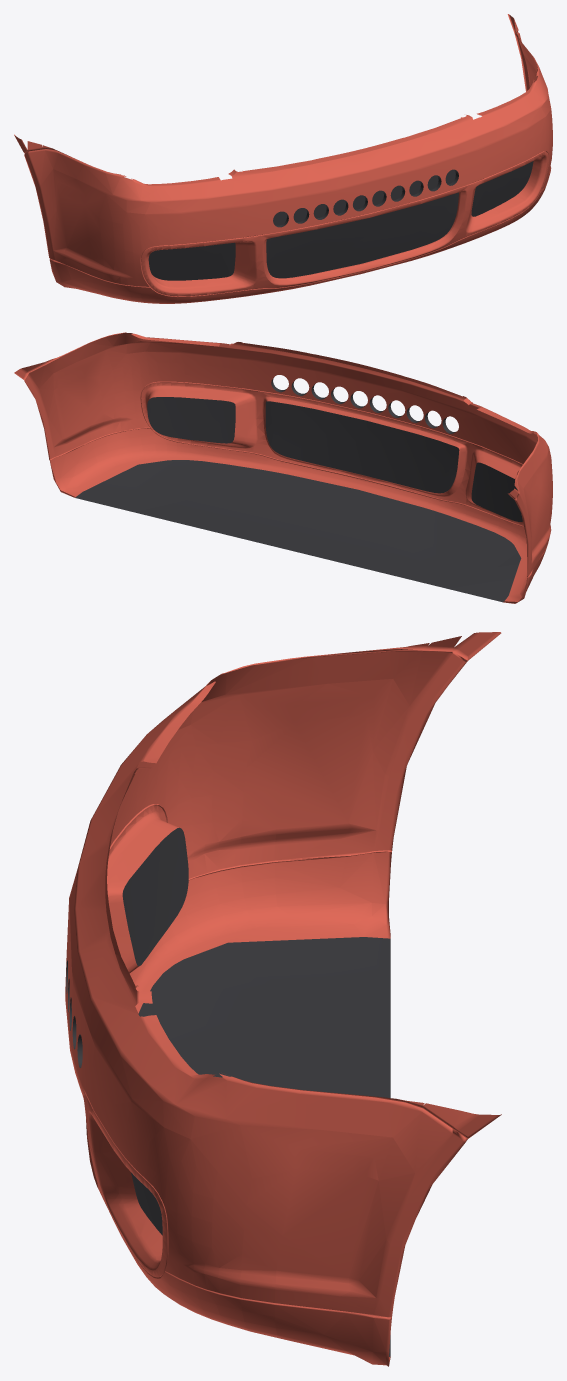
Rendered from wendtStrom_frontBumper_speedholes.glb.
3 views of the same model, one above another, from view 1: azimuth 30°, elevation 25°; view 2: azimuth 150°, elevation 25°; view 3: azimuth 270°, elevation 25° (orthographic). The views are drawn at different scales.
Visible parts, largest first — view 1: frontBumper_speedholes; view 2: frontBumper_speedholes; view 3: frontBumper_speedholes.
Boxes of the visible parts, x1,y1,x2,y2 form: frontBumper_speedholes: (14, 14, 552, 303); frontBumper_speedholes: (14, 332, 552, 603); frontBumper_speedholes: (65, 632, 501, 1366).
Bounding box in the file's own units: 1.73 × 0.4573 × 0.6593.
